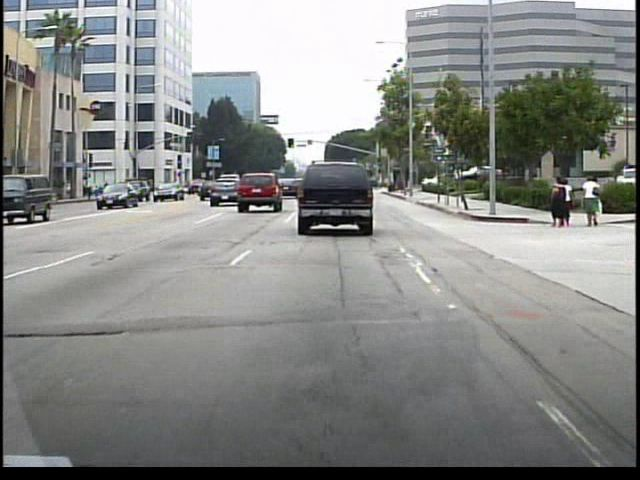person: (581, 174, 602, 230), (550, 176, 566, 231), (564, 181, 575, 228)
